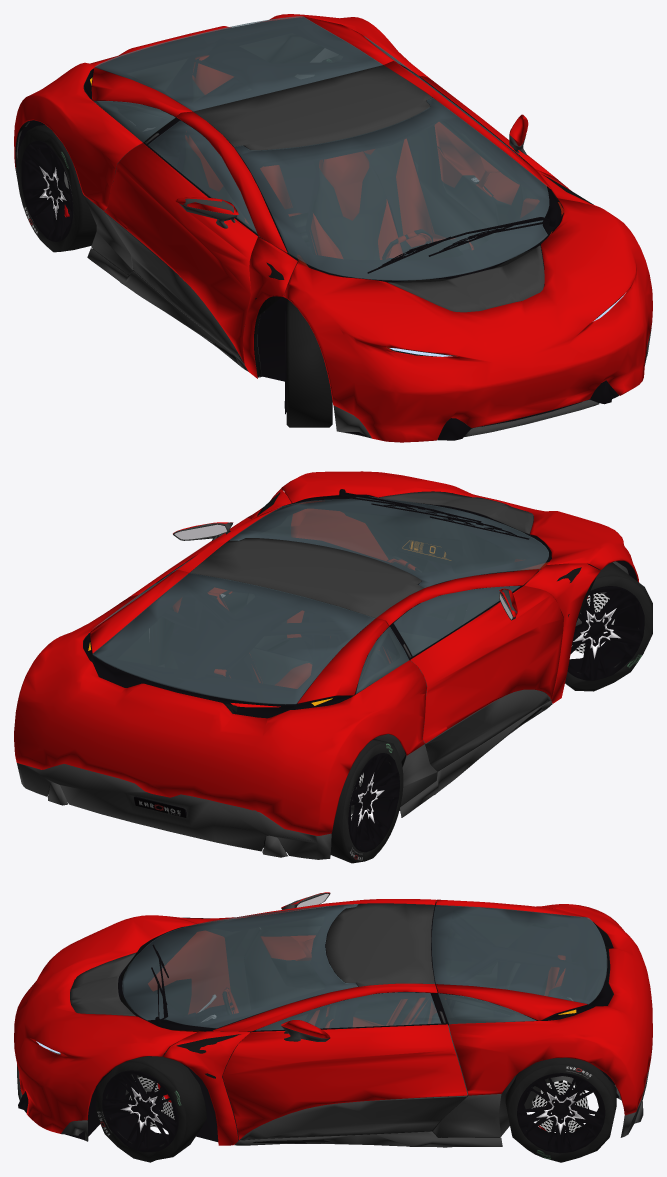
The model's file is city-car.glb.
3 renders of one model, top to bottom at view 1: azimuth 30°, elevation 25°; view 2: azimuth 150°, elevation 25°; view 3: azimuth 270°, elevation 25°, orthographic. The views are drawn at different scales.
Parts seen in each view (by area): view 1: BodyHood, BodyWindshield, BodyRearwindow, BodyDoorRColor1, BodyRearPanelsColor1, BodyRoofPanel, BodyWindshieldGasket, BodyPillars, InteriorSeatsColor1, InteriorSeatsColor2, InteriorRearHatch, BodyPanelsColor2 (+20 smaller); view 2: BodyRearPanelsColor1, BodyRearwindow, BodyWindshield, BodyPanelsColor2, BodyDoorRColor1, BodyRoofPanel, BodyHood, InteriorRearHatch, InteriorPillar, BodyPillars, BodyWindshieldGasket, WheelFrontRRim (+21 smaller); view 3: BodyWindshield, BodyRearPanelsColor1, BodyDoorLColor1, BodyHood, BodyRearwindow, BodyRoofPanel, BodyPillars, BodyWindshieldGasket, BodyDoorLColor2, BodyPanelsColor2, InteriorRearHatch, WheelRearLRim (+25 smaller).
Part boxes in pixels (x1,y1,x2,y2): BodyHood: (284, 198, 652, 442); BodyWindshield: (234, 98, 549, 280); BodyRearwindow: (94, 16, 382, 111); BodyDoorRColor1: (104, 143, 257, 363); BodyRearPanelsColor1: (14, 14, 430, 210); BodyRoofPanel: (193, 65, 432, 150); BodyWindshieldGasket: (234, 99, 549, 282); BodyPillars: (176, 61, 599, 378); InteriorSeatsColor1: (185, 55, 473, 259); InteriorSeatsColor2: (181, 79, 470, 259); InteriorRearHatch: (93, 17, 381, 118); BodyPanelsColor2: (15, 127, 651, 438); BodyRearPanelsColor1: (14, 570, 426, 835); BodyRearwindow: (92, 573, 375, 704); BodyWindshield: (229, 496, 548, 587); BodyPanelsColor2: (17, 700, 552, 859); BodyDoorRColor1: (410, 585, 563, 743); BodyRoofPanel: (189, 538, 423, 618); BodyHood: (279, 471, 639, 582); InteriorRearHatch: (93, 574, 373, 704); InteriorPillar: (171, 575, 418, 702); BodyPillars: (175, 489, 600, 703); BodyWindshieldGasket: (231, 497, 551, 587); WheelFrontRRim: (567, 586, 644, 680); BodyWindshield: (122, 904, 358, 1028); BodyRearPanelsColor1: (436, 899, 652, 1115); BodyDoorLColor1: (222, 1024, 467, 1139); BodyHood: (14, 915, 196, 1133); BodyRearwindow: (431, 905, 607, 1004); BodyRoofPanel: (326, 903, 434, 986); BodyPillars: (163, 899, 437, 1145); BodyWindshieldGasket: (119, 905, 357, 1031); BodyDoorLColor2: (240, 1095, 466, 1140); BodyPanelsColor2: (17, 1064, 650, 1147); InteriorRearHatch: (432, 905, 606, 1020); WheelRearLRim: (517, 1073, 605, 1153).
Size of the model in its own units: 2.54 by 1.15 by 4.36.
Materials: 23 (6 with a texture image).
